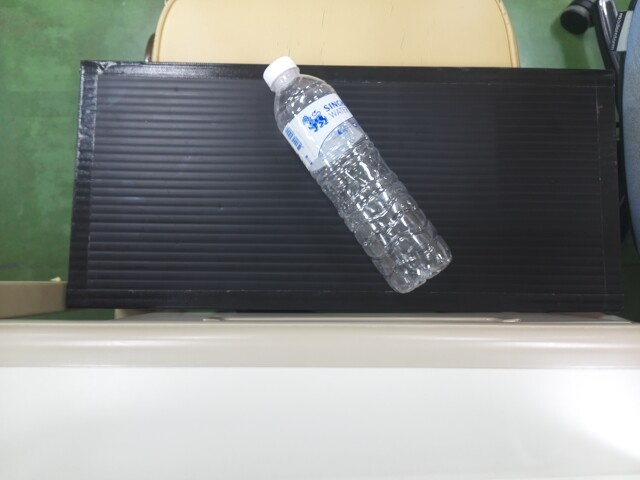plastic_bottle: (265, 55, 449, 287)
